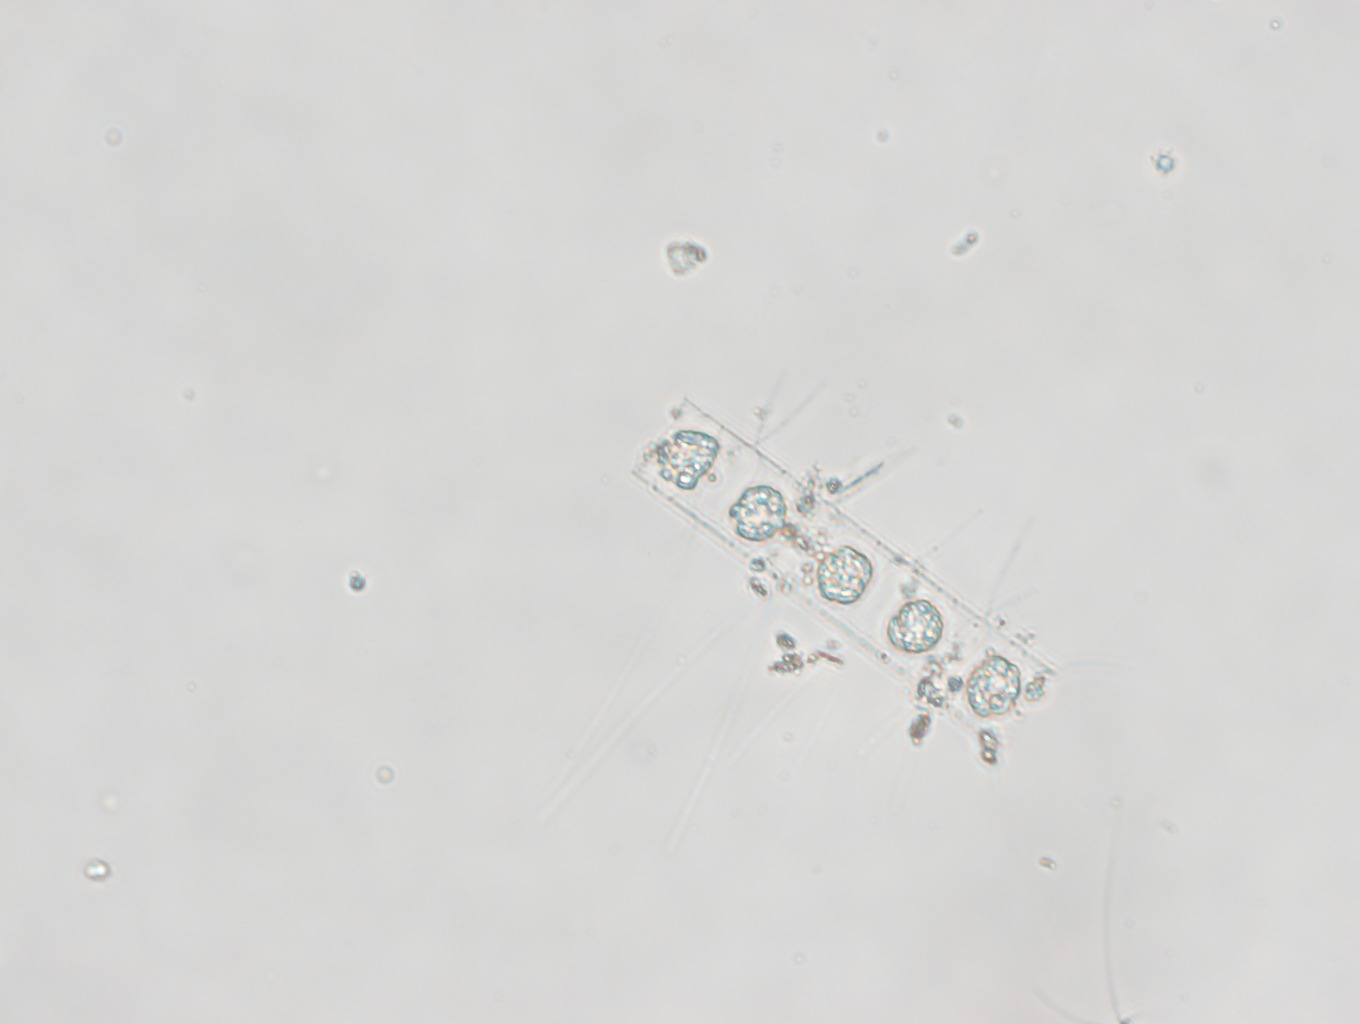chaetoceros: (628, 372, 1070, 755)
